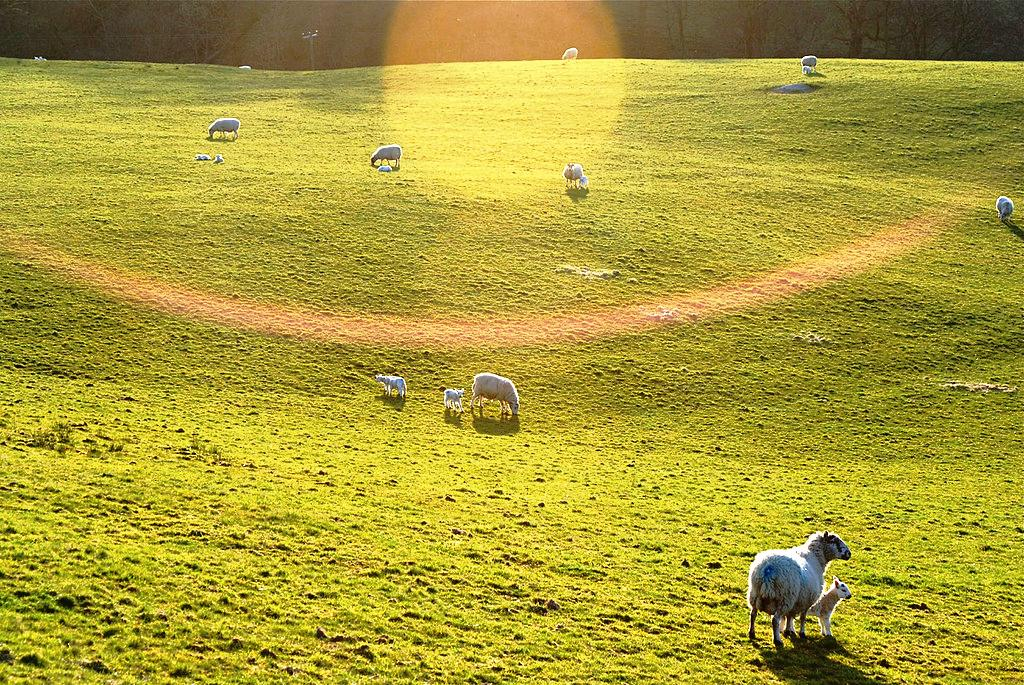Sheep: (748, 532, 850, 646), (804, 580, 850, 640), (470, 374, 520, 418), (378, 374, 404, 402), (371, 144, 402, 164), (444, 386, 467, 410), (210, 120, 239, 137), (562, 163, 582, 184), (578, 174, 588, 185), (378, 163, 390, 171)
